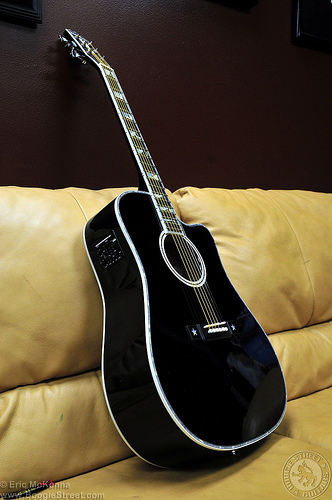guitar: (53, 26, 287, 476)
